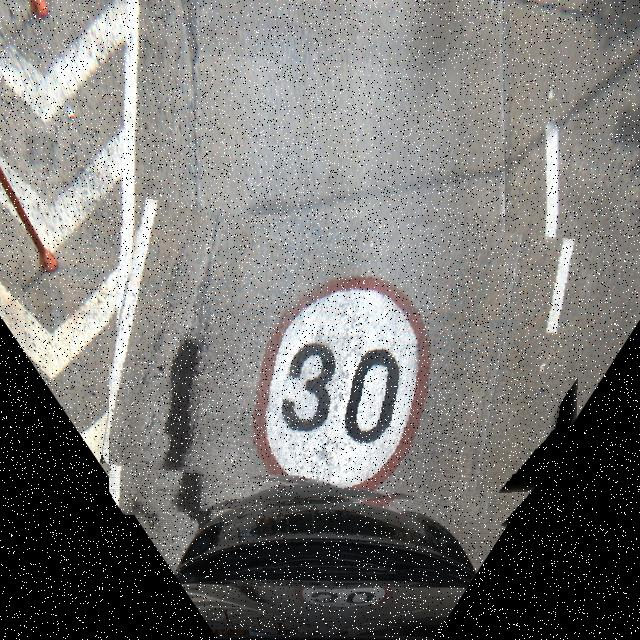30limit: (109, 215, 585, 517)
